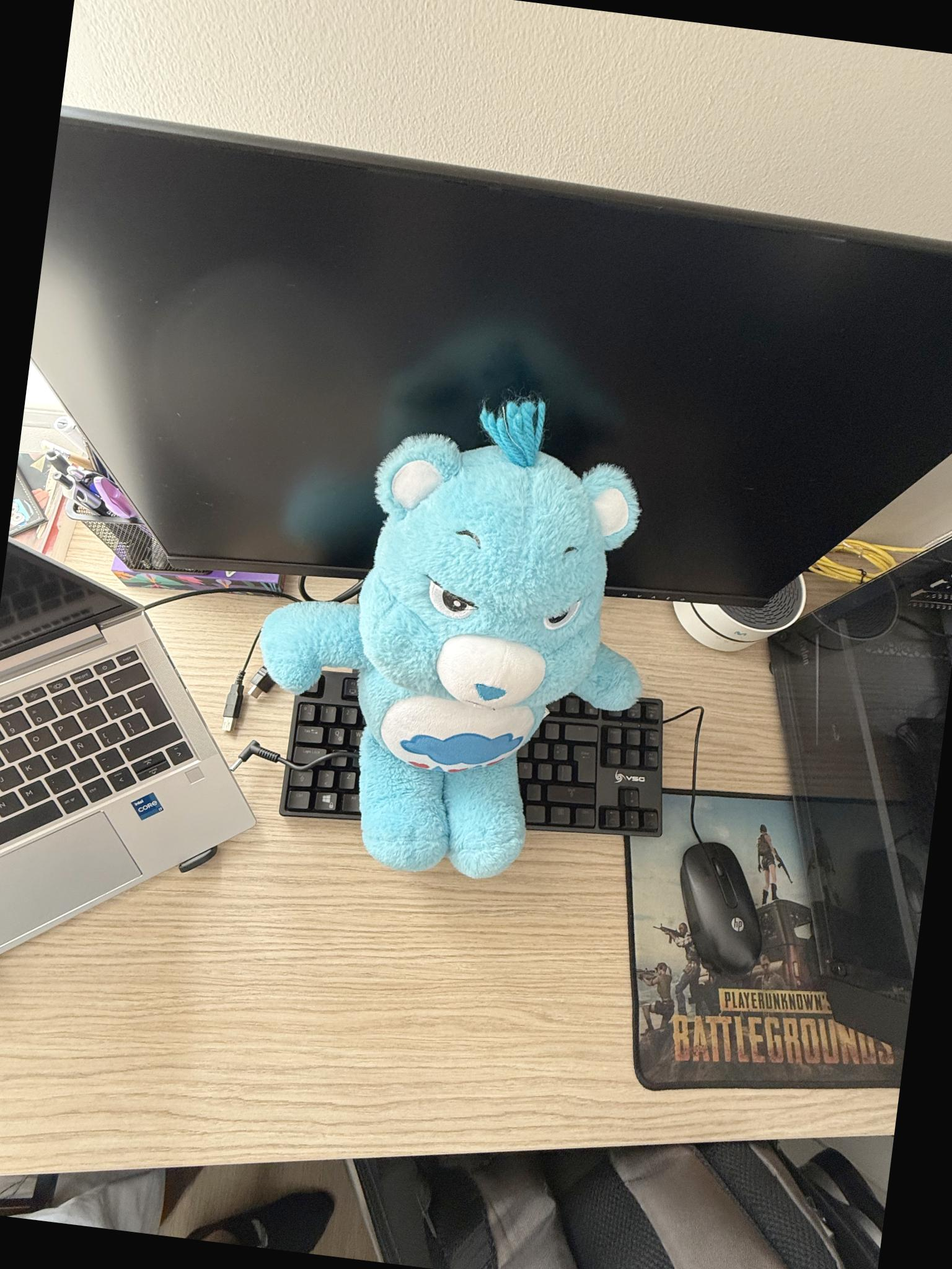peluche_Juan Jose: (331, 395, 659, 903)
